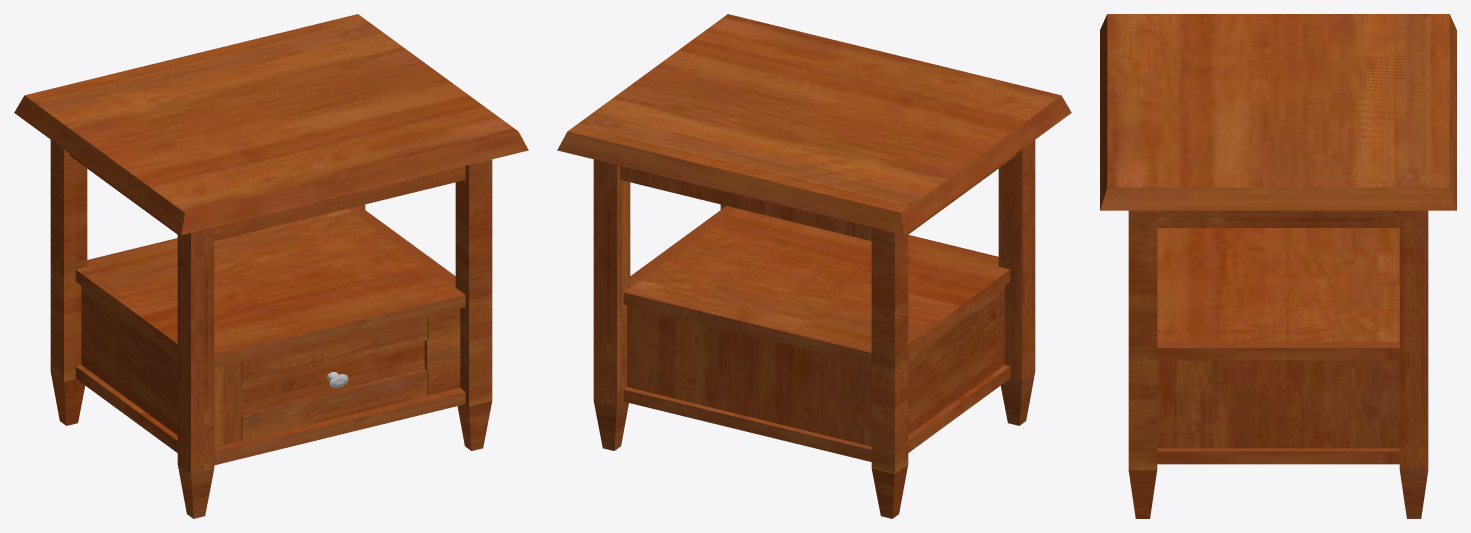
Rendered from comodino.fbx.
3 views of the same model, side by side, from view 1: azimuth 30°, elevation 25°; view 2: azimuth 150°, elevation 25°; view 3: azimuth 270°, elevation 25° (orthographic). The views are drawn at different scales.
Visible parts, largest first — view 1: group_0, group_10, group_14, group_1, group_2, group_3, group_11, group_9, group_6; view 2: group_0, group_10, group_13, group_3, group_4, group_1, group_11, group_9, group_5; view 3: group_0, group_10, group_12, group_2, group_4, group_7, group_9.
Boxes of the visible parts, box(x1,y1,x2,y2) form: group_0: box(14, 14, 528, 234); group_10: box(75, 206, 465, 368); group_14: box(214, 308, 460, 447); group_1: box(177, 227, 214, 518); group_2: box(455, 159, 492, 450); group_3: box(50, 140, 87, 425); group_11: box(81, 286, 177, 434); group_9: box(75, 365, 465, 465); group_6: box(214, 166, 465, 240); group_0: box(557, 14, 1071, 234); group_10: box(623, 206, 1010, 364); group_13: box(627, 305, 871, 446); group_3: box(871, 227, 908, 518); group_4: box(593, 159, 630, 450); group_1: box(998, 140, 1035, 425); group_11: box(908, 286, 1004, 434); group_9: box(623, 365, 1010, 461); group_5: box(620, 166, 871, 240); group_0: box(1100, 14, 1456, 210); group_10: box(1157, 228, 1399, 360); group_12: box(1157, 360, 1399, 448); group_2: box(1128, 210, 1157, 518); group_4: box(1399, 210, 1428, 518); group_7: box(1157, 210, 1399, 227); group_9: box(1157, 448, 1399, 464).
Size of the model in its own units: 60 by 53 by 50.
